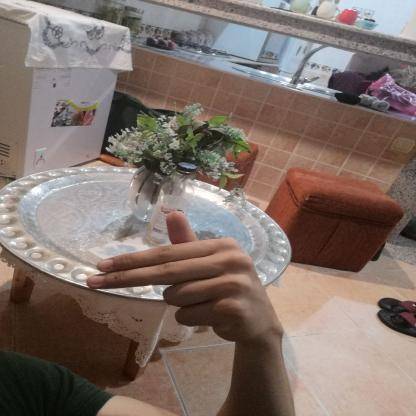GHAYN: (72, 202, 298, 352)
